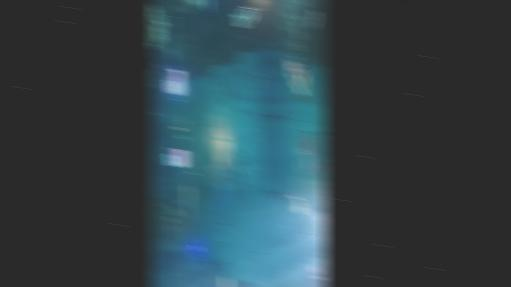Fish: (287, 60, 308, 100), (236, 7, 257, 27), (290, 194, 305, 215), (303, 132, 316, 155), (299, 156, 312, 174), (297, 137, 308, 155), (319, 131, 328, 152), (317, 152, 326, 170), (309, 11, 318, 28), (267, 190, 286, 198), (230, 162, 239, 176), (217, 179, 228, 190), (235, 155, 244, 168), (230, 177, 239, 189), (256, 73, 263, 88), (234, 88, 243, 99), (235, 65, 244, 76), (214, 74, 221, 86), (312, 265, 319, 274), (240, 72, 245, 83), (206, 0, 210, 12), (265, 115, 280, 118), (226, 64, 231, 73), (266, 181, 273, 187), (218, 91, 225, 97), (228, 88, 232, 96), (275, 187, 280, 193), (239, 107, 243, 114), (152, 272, 156, 277), (233, 64, 235, 74)
